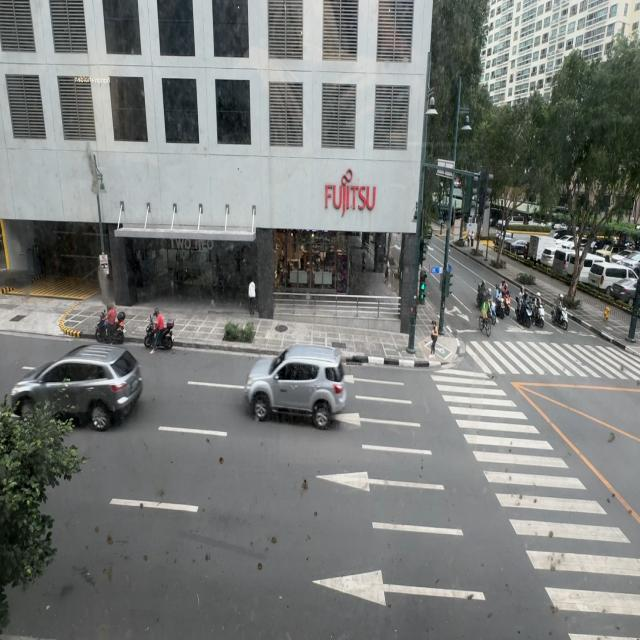waiting: (431, 321, 438, 356)
